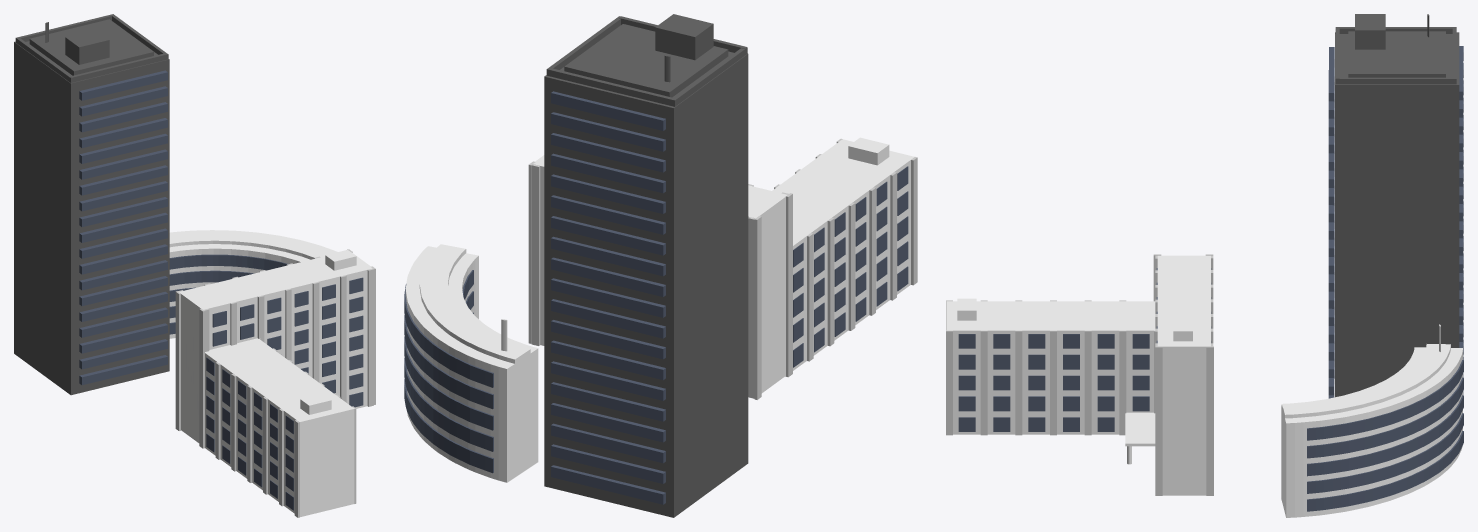
The model's file is build3.glb.
3 views of the same model, side by side, from view 1: azimuth 30°, elevation 25°; view 2: azimuth 150°, elevation 25°; view 3: azimuth 270°, elevation 25° (orthographic). The views are drawn at different scales.
Visible parts, largest first — view 1: 立方体.005, 立方体.007, 立方体.013, 立方体.014, 立方体.021, 立方体.015, 立方体.022, 立方体.020, 立方体.008, 立方体.003, 立方体.002, 立方体.004 (+8 smaller); view 2: 立方体.005, 立方体.006, 立方体.003, 立方体.013, 立方体.001, 立方体.022, 立方体.014, 立方体.008, 立方体.020, 立方体.004, 立方体.016, 立方体.018 (+6 smaller); view 3: 立方体.005, 立方体.013, 立方体.014, 立方体.001, 立方体.003, 立方体.022, 立方体.017, 立方体.008, 立方体.004, 立方体.007, 立方体.019, 立方体.006 (+3 smaller).
Part boxes in pixels (x1,y1,x2,y2): 立方体.005: (14, 41, 169, 395); 立方体.007: (79, 70, 167, 385); 立方体.013: (205, 338, 354, 516); 立方体.014: (179, 252, 372, 442); 立方体.021: (212, 277, 363, 407); 立方体.015: (204, 268, 373, 406); 立方体.022: (206, 357, 293, 510); 立方体.020: (215, 362, 299, 517); 立方体.008: (29, 19, 153, 75); 立方体.003: (169, 230, 337, 338); 立方体.002: (169, 254, 288, 334); 立方体.004: (169, 231, 332, 259); 立方体.005: (544, 28, 748, 517); 立方体.006: (551, 91, 665, 504); 立方体.003: (405, 246, 538, 482); 立方体.013: (772, 139, 914, 370); 立方体.001: (404, 284, 493, 473); 立方体.022: (793, 166, 908, 367); 立方体.014: (533, 155, 787, 393); 立方体.008: (564, 24, 728, 97); 立方体.020: (807, 157, 917, 361); 立方体.004: (419, 244, 530, 363); 立方体.016: (531, 164, 755, 398); 立方体.018: (754, 193, 792, 399); 立方体.005: (1335, 32, 1459, 397); 立方体.013: (946, 301, 1155, 434); 立方体.014: (1157, 255, 1210, 495); 立方体.001: (1307, 360, 1463, 511); 立方体.003: (1281, 347, 1462, 517); 立方体.022: (958, 334, 1149, 431); 立方体.017: (946, 330, 1155, 435); 立方体.008: (1348, 31, 1445, 77); 立方体.004: (1282, 344, 1450, 418); 立方体.007: (1328, 47, 1334, 398); 立方体.019: (1155, 346, 1213, 495); 立方体.006: (1459, 46, 1463, 394).
Bounding box in the file's own units: 6.62 × 8.12 × 10.2.
